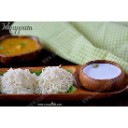idiyappam: (37, 67, 71, 93), (2, 70, 36, 94)
